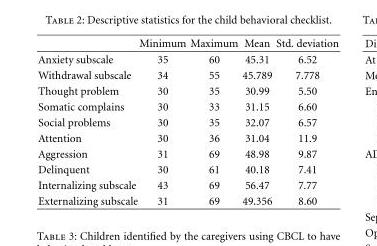table: (37, 36, 338, 206)
table column: (37, 36, 137, 206), (273, 36, 338, 206), (187, 36, 239, 206), (137, 36, 187, 206), (239, 36, 273, 206)
table column header: (37, 36, 338, 51)
table row: (37, 66, 338, 82), (37, 82, 338, 98), (37, 98, 338, 114), (37, 129, 338, 145), (37, 145, 338, 161), (37, 161, 338, 177), (37, 36, 338, 51), (37, 51, 338, 66), (37, 114, 338, 129), (37, 177, 338, 192), (37, 192, 338, 206)
